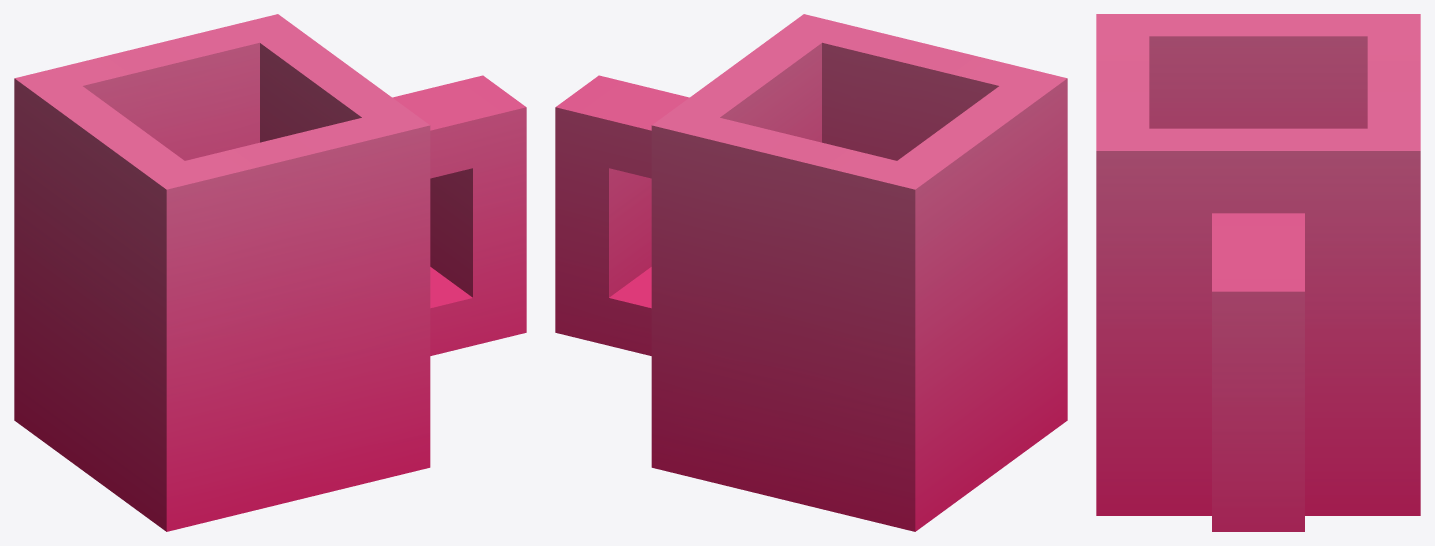
The model's file is Mug_cute.fbx.
The picture shows the model from 3 angles, left to right: view 1: azimuth 30°, elevation 25°; view 2: azimuth 150°, elevation 25°; view 3: azimuth 270°, elevation 25°; orthographic projection. The views are drawn at different scales.
Parts seen in each view (by area): view 1: Mug.cute; view 2: Mug.cute; view 3: Mug.cute.
Boxes of the visible parts, box(x1,y1,x2,y2) form: Mug.cute: box(14, 14, 526, 531); Mug.cute: box(555, 14, 1067, 531); Mug.cute: box(1096, 14, 1420, 531).
Bounding box in the file's own units: 27.5 × 21.71 × 17.5.
